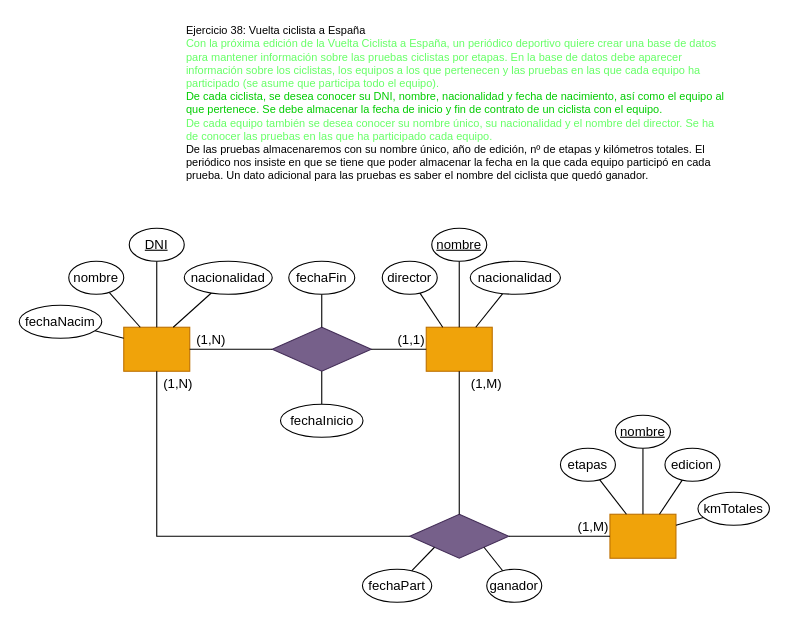
Image size: 789x622. Some labels were removed from this diagram. Here are the shapes that lost their labels. From the top down, the centre of each, then its label:
At (x=156, y=348): "ciclista".
At (x=321, y=348): "pertenece".
At (x=458, y=348): "equipo".
At (x=459, y=535): "participa".
At (x=642, y=535): "prueba".
